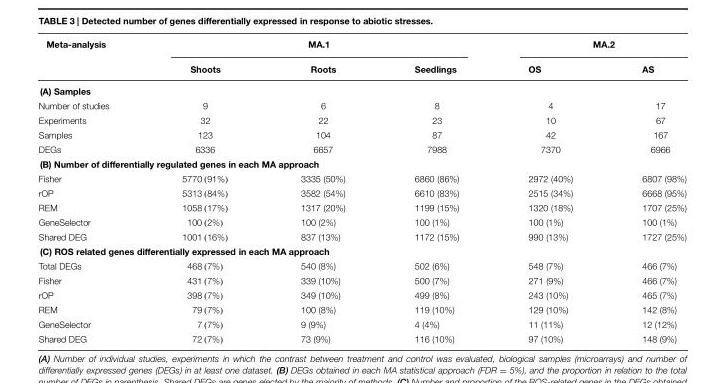table: (37, 37, 686, 343)
table column: (145, 37, 263, 343), (263, 37, 379, 343), (379, 37, 493, 343), (493, 37, 606, 343), (37, 37, 145, 343), (606, 37, 686, 343)
table column header: (37, 37, 686, 79)
table projected row header: (37, 79, 686, 97), (37, 155, 686, 170), (37, 243, 686, 257)
table row: (37, 55, 686, 79), (37, 37, 686, 55), (37, 79, 686, 97), (37, 97, 686, 112), (37, 126, 686, 141), (37, 155, 686, 170), (37, 170, 686, 185), (37, 199, 686, 214), (37, 228, 686, 243), (37, 257, 686, 272), (37, 272, 686, 287), (37, 301, 686, 316), (37, 112, 686, 126), (37, 141, 686, 155), (37, 185, 686, 199), (37, 214, 686, 228), (37, 243, 686, 257), (37, 287, 686, 301), (37, 316, 686, 330), (37, 330, 686, 343)
table spanning cell: (145, 37, 493, 55), (37, 37, 145, 79), (493, 37, 686, 55)
